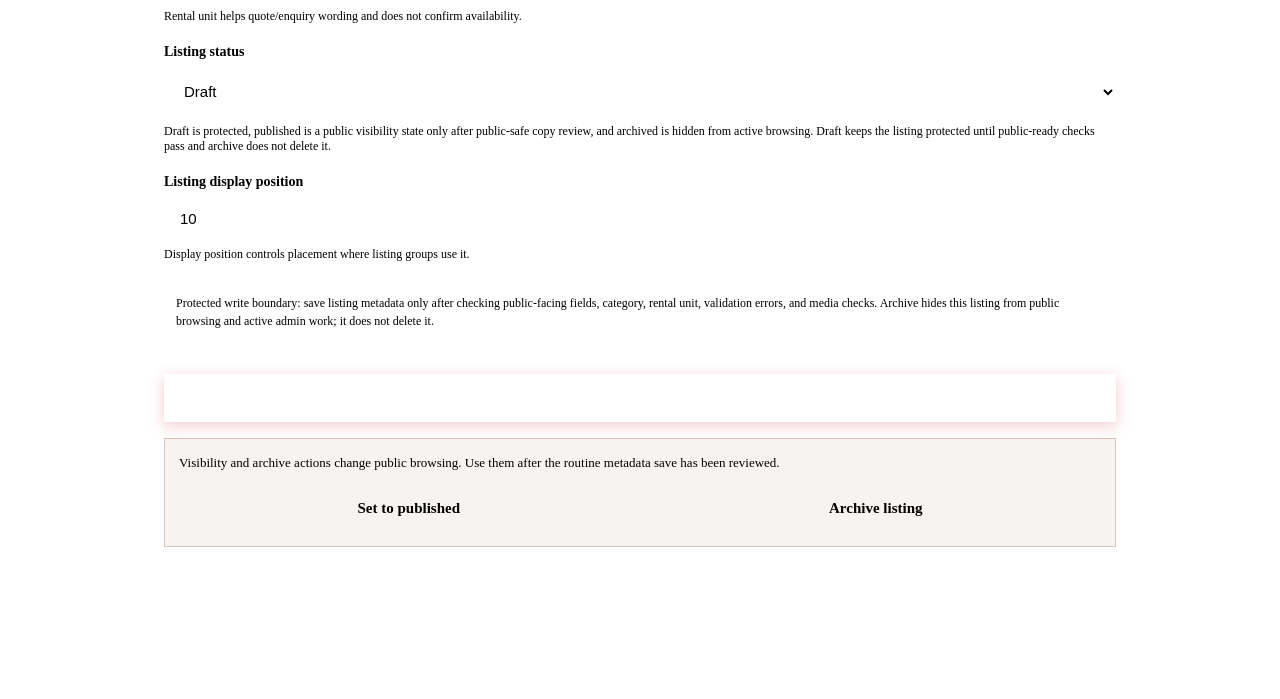
listing management panel › renders only generic failures and never raw proof values
(page scrolled)
Click the button "Save listing metadata": click(640, 398) [164,374,1116,422]
(page scrolled)
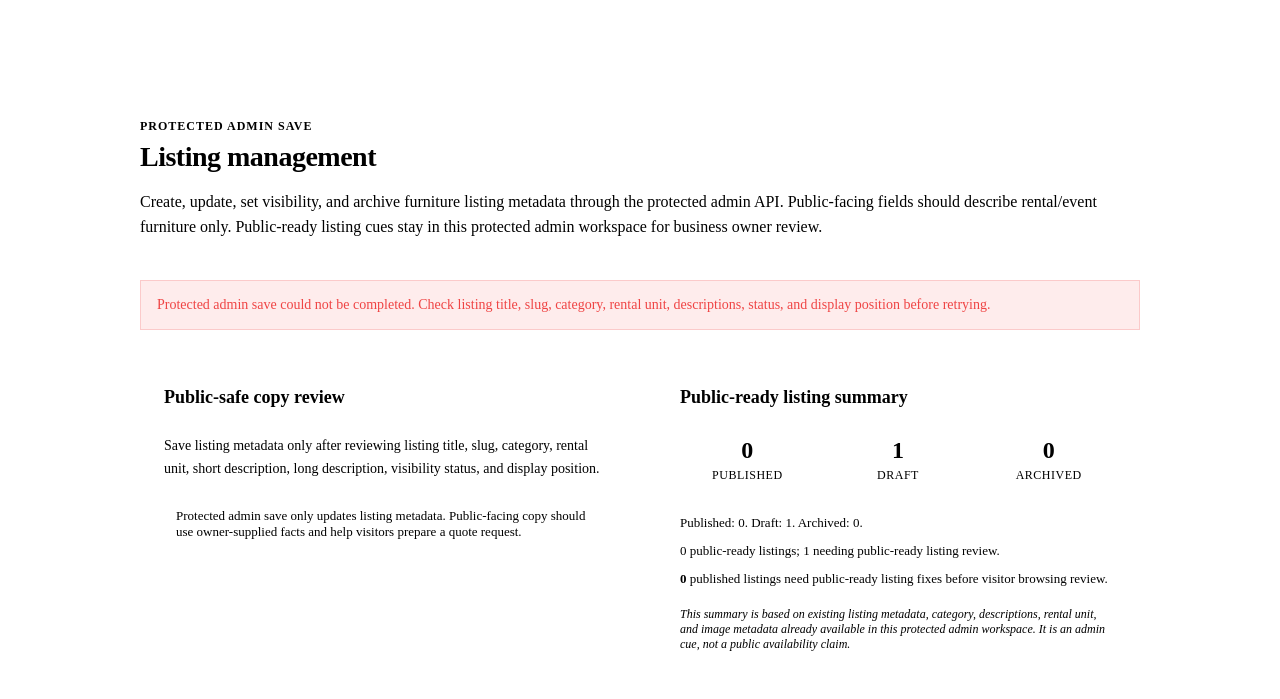
Now the text "Protected admin save could not be completed" is shown, box [157,297,990,312]
